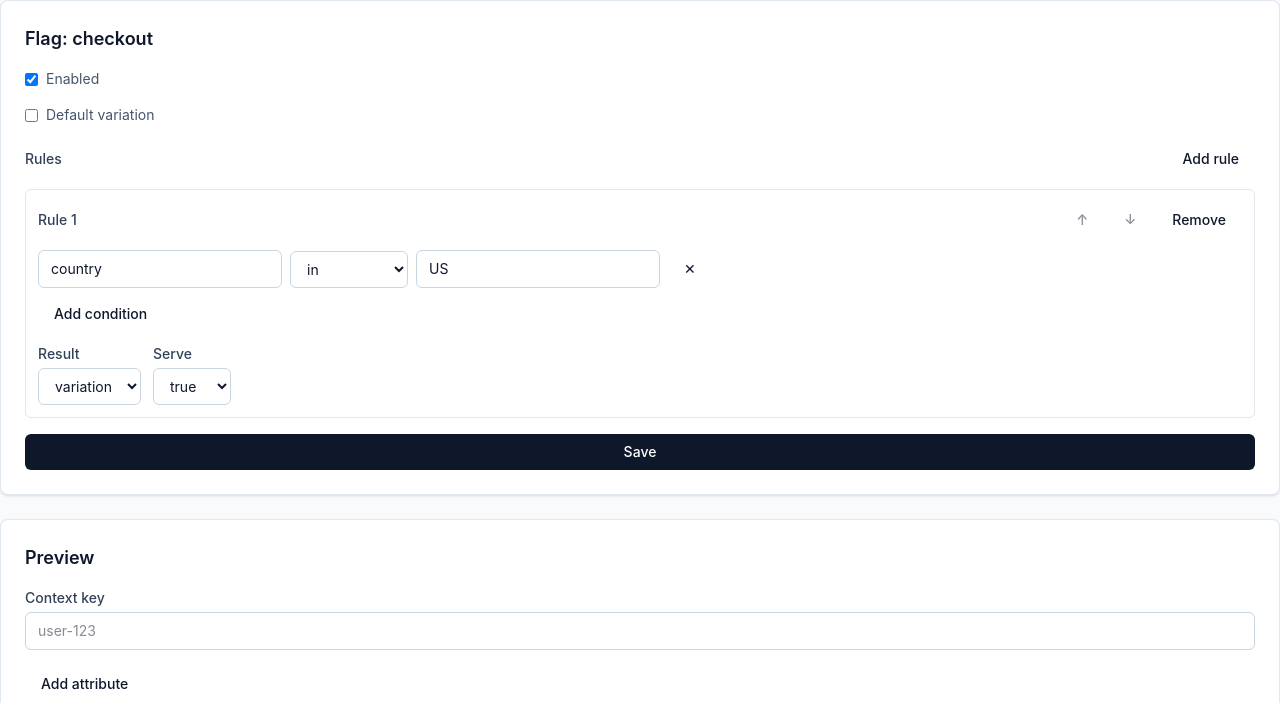
Test case: FlagEditorRoute › saves the draft with expectedConfigVersion and edited fields
Click the checkbox labelled "Enabled" at (32, 79), box [25,72,38,86]
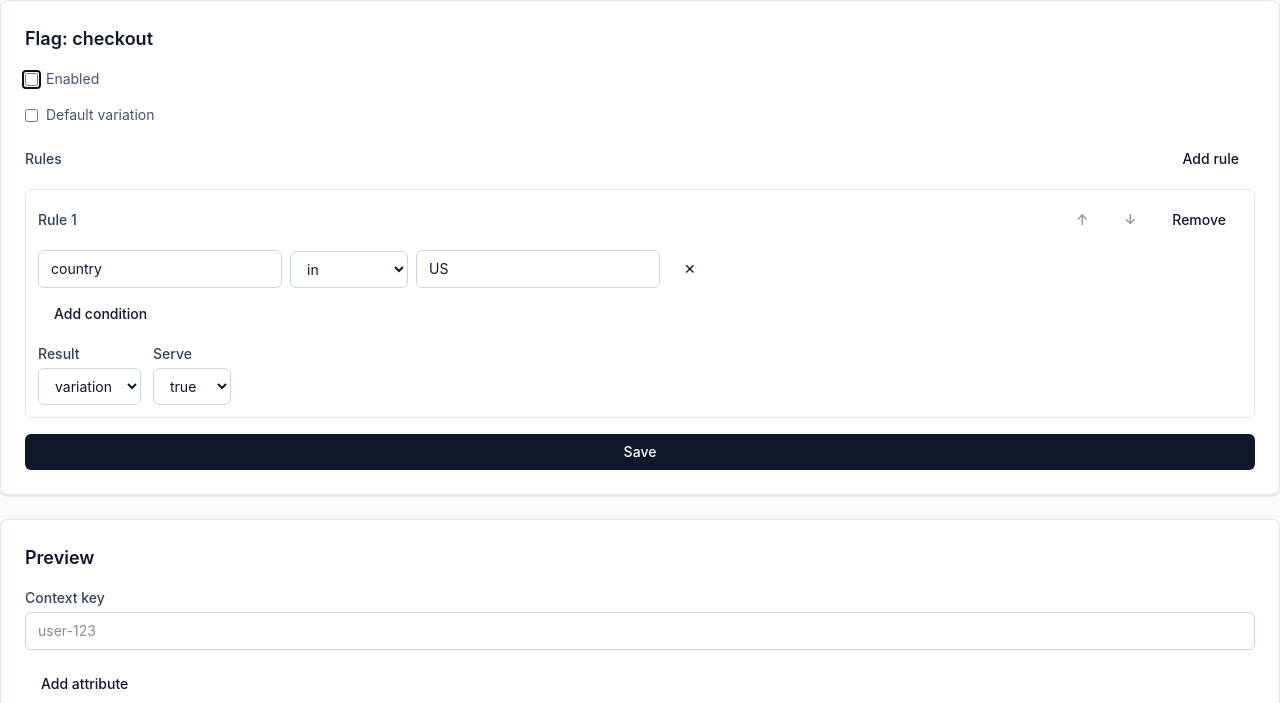
Click the button "Save" at (640, 452), box [25,434,1255,470]
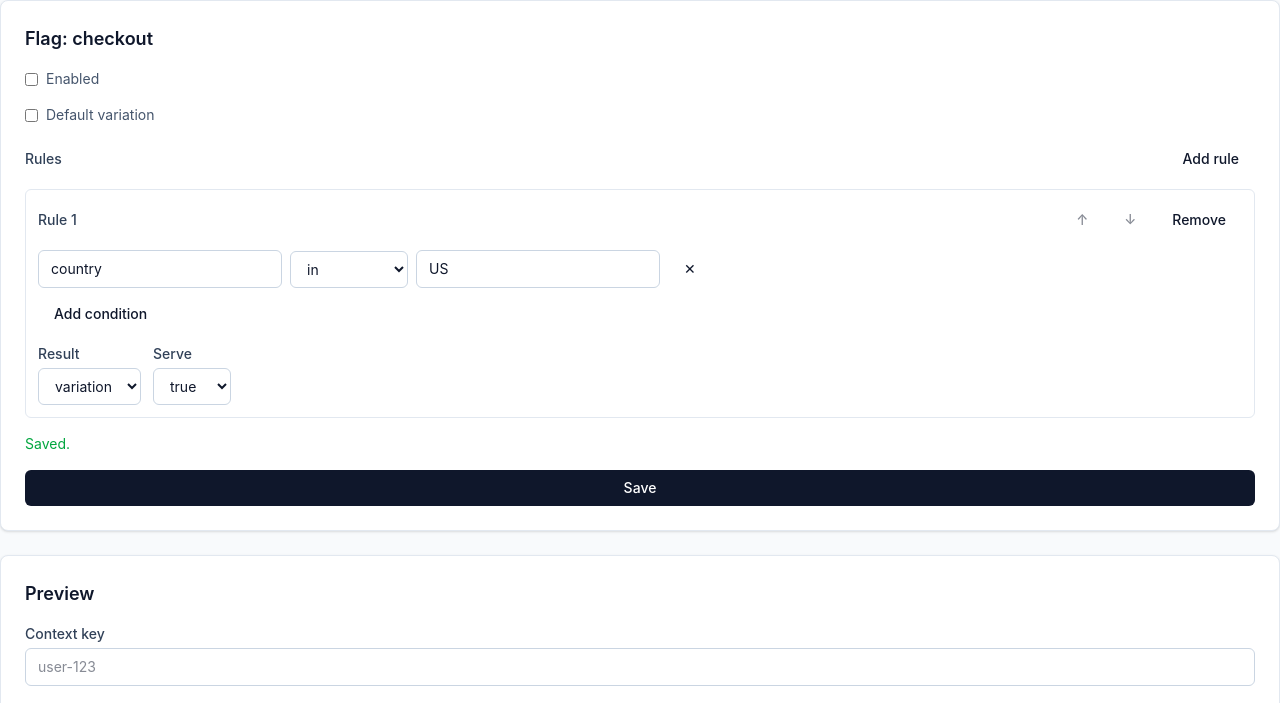
expect the text "Saved." is shown: met, box [25,435,70,452]
